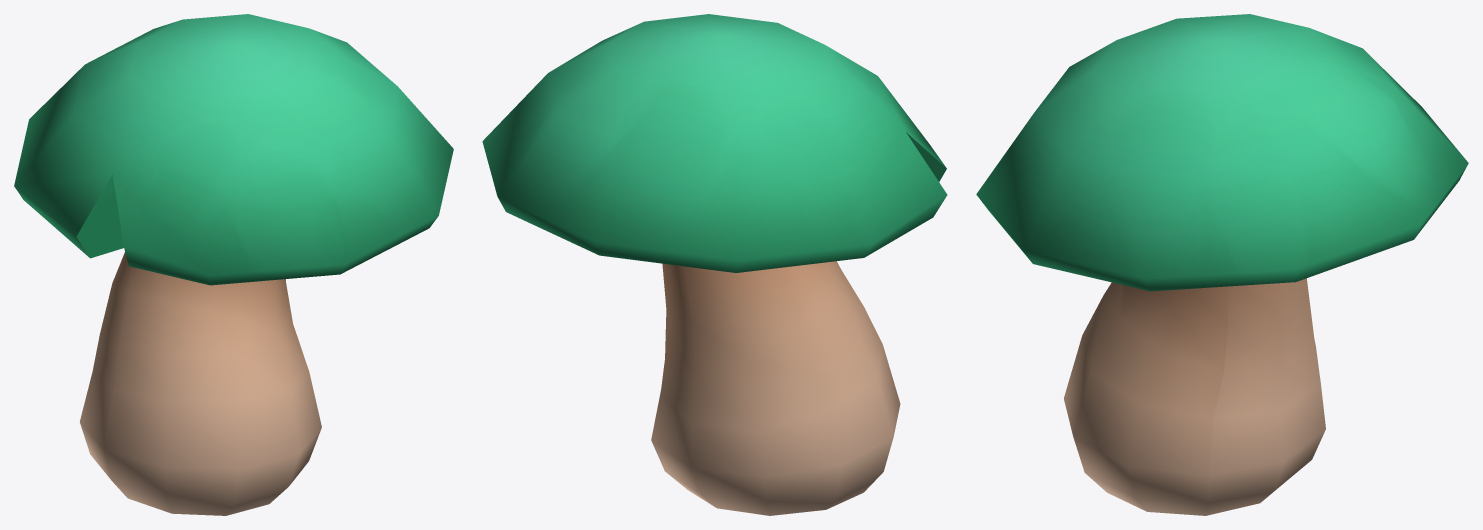
File: Shrooms2.fbx
3 renders of one model, left to right at view 1: azimuth 30°, elevation 25°; view 2: azimuth 150°, elevation 25°; view 3: azimuth 270°, elevation 25°, orthographic. The views are drawn at different scales.
Visible parts, largest first — view 1: BezierCurve; view 2: BezierCurve; view 3: BezierCurve.
Part boxes in pixels (box(x1,y1,x2,y2)): BezierCurve: box(14, 14, 453, 515); BezierCurve: box(482, 14, 947, 515); BezierCurve: box(976, 14, 1468, 515).
Bounding box in the file's own units: 194 × 208 × 201.
